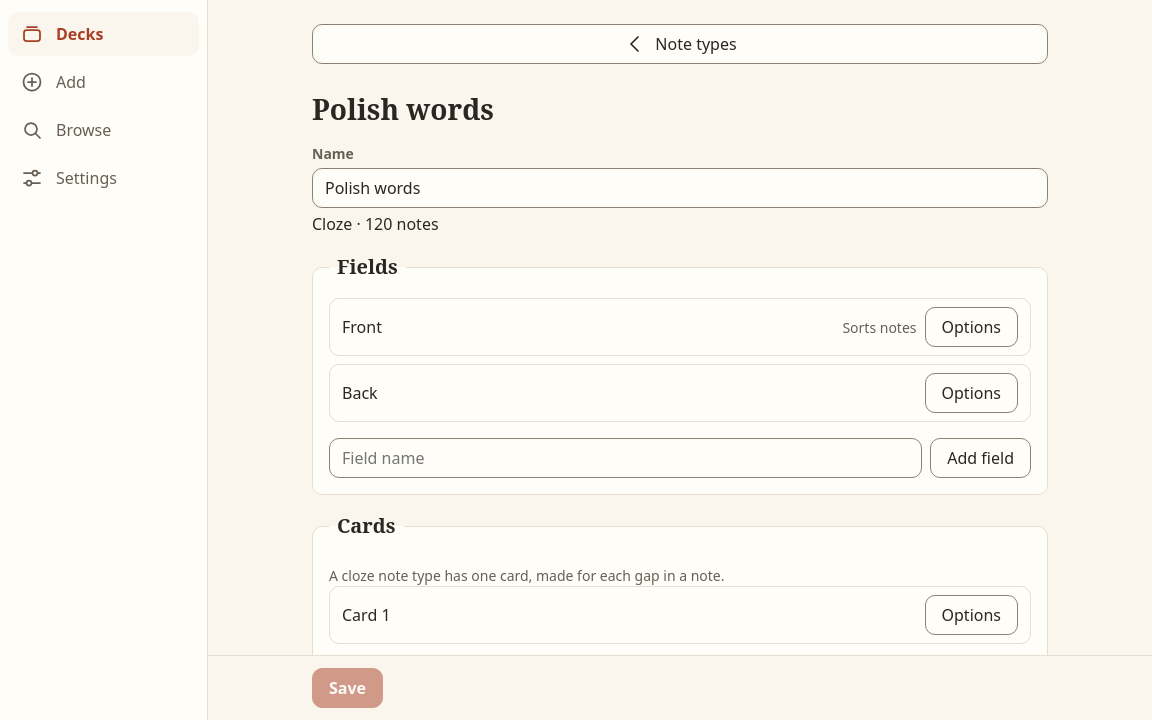
Test: the template box › the Back tab offers FrontSide, and a cloze type offers cloze for each field
This screenshot has width=1152, height=720.
Expected: the field labelled "Name" is shown, [312,168,1048,208]
Click the button with aria-label "Options for Card 1". click: (971, 615)
box: [924,595,1018,635]
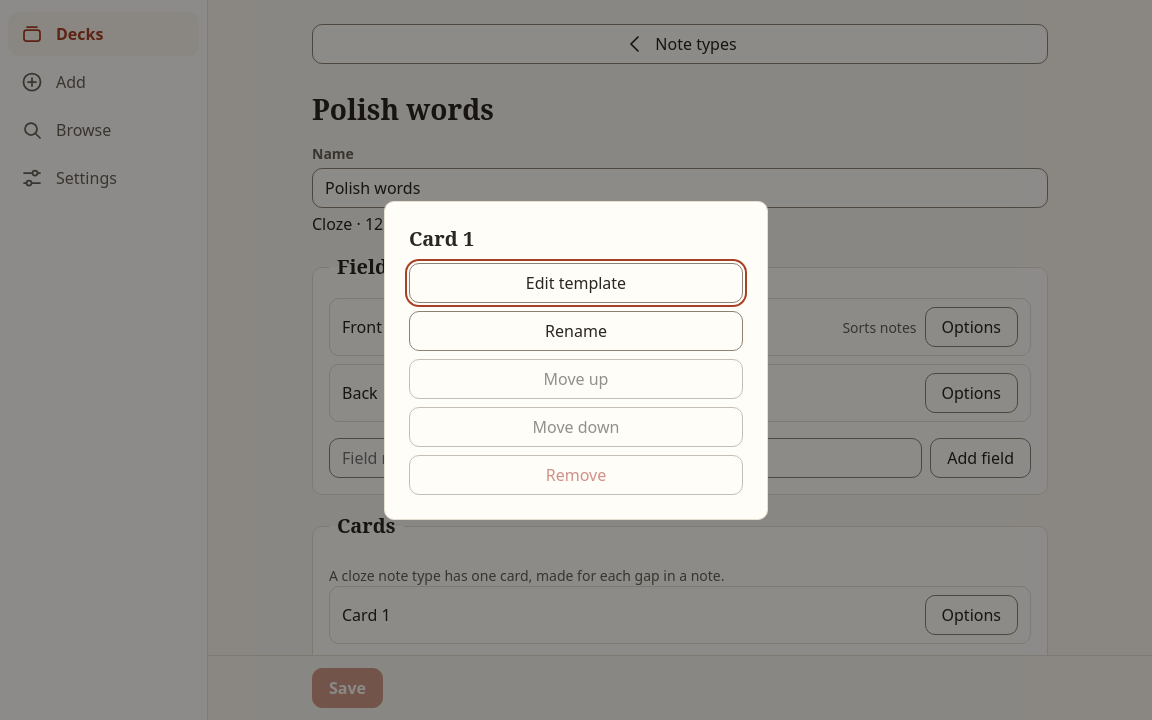
Click the button "Edit template". click: (576, 282)
box: [409,262,743,302]
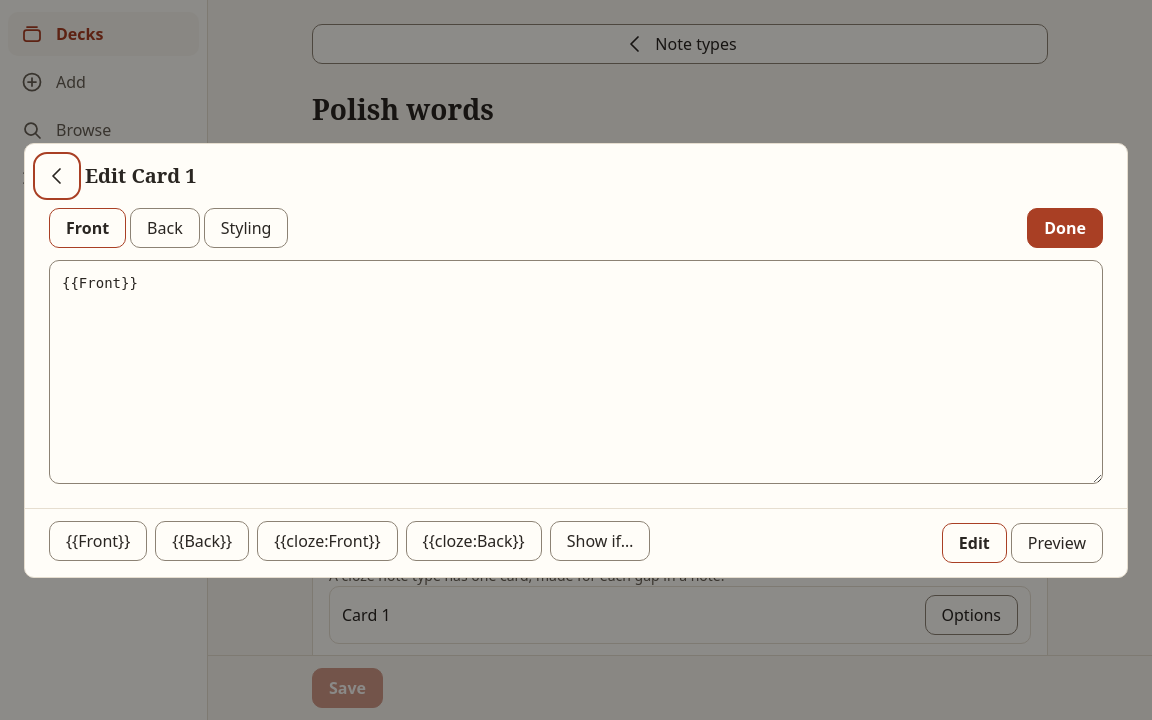
Expected: the button "{{FrontSide}}" is not shown
Now the button with aria-label "Insert cloze Front" is shown, box [257,520,398,560]
Click the tab "Back". click: (165, 228)
box: [130,208,200,248]
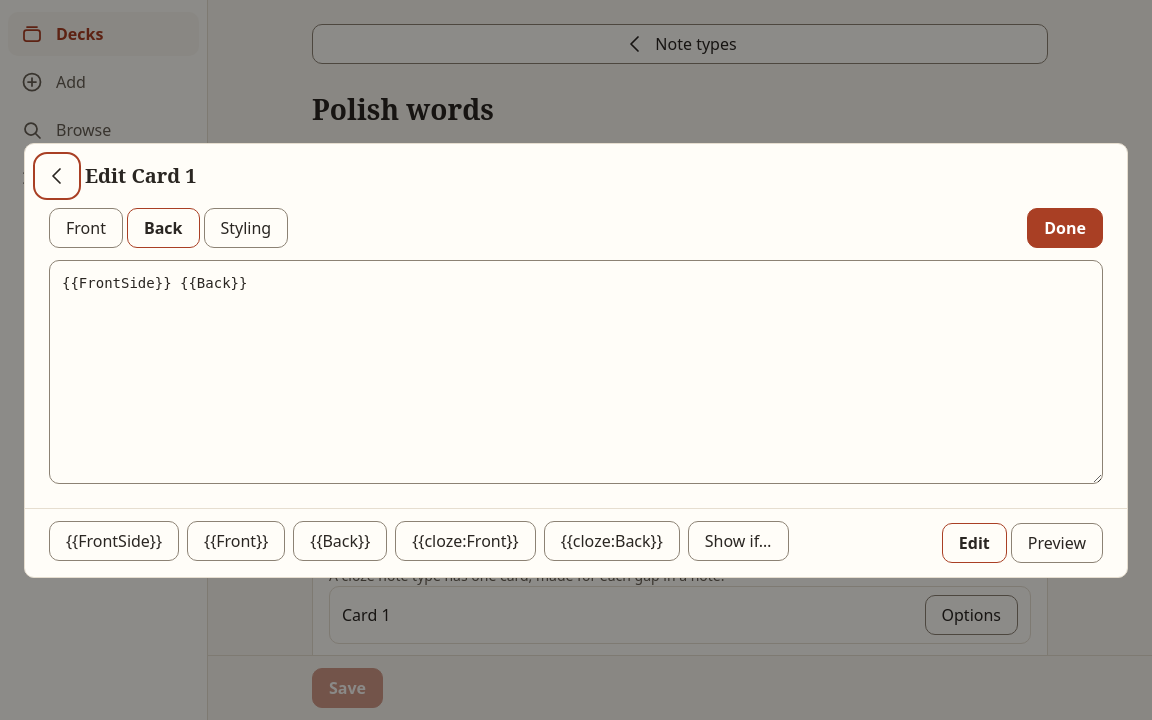
Now the text box named "Back template" is shown, box [49,260,1103,484]
Now the button "{{FrontSide}}" is shown, box [49,520,179,560]
